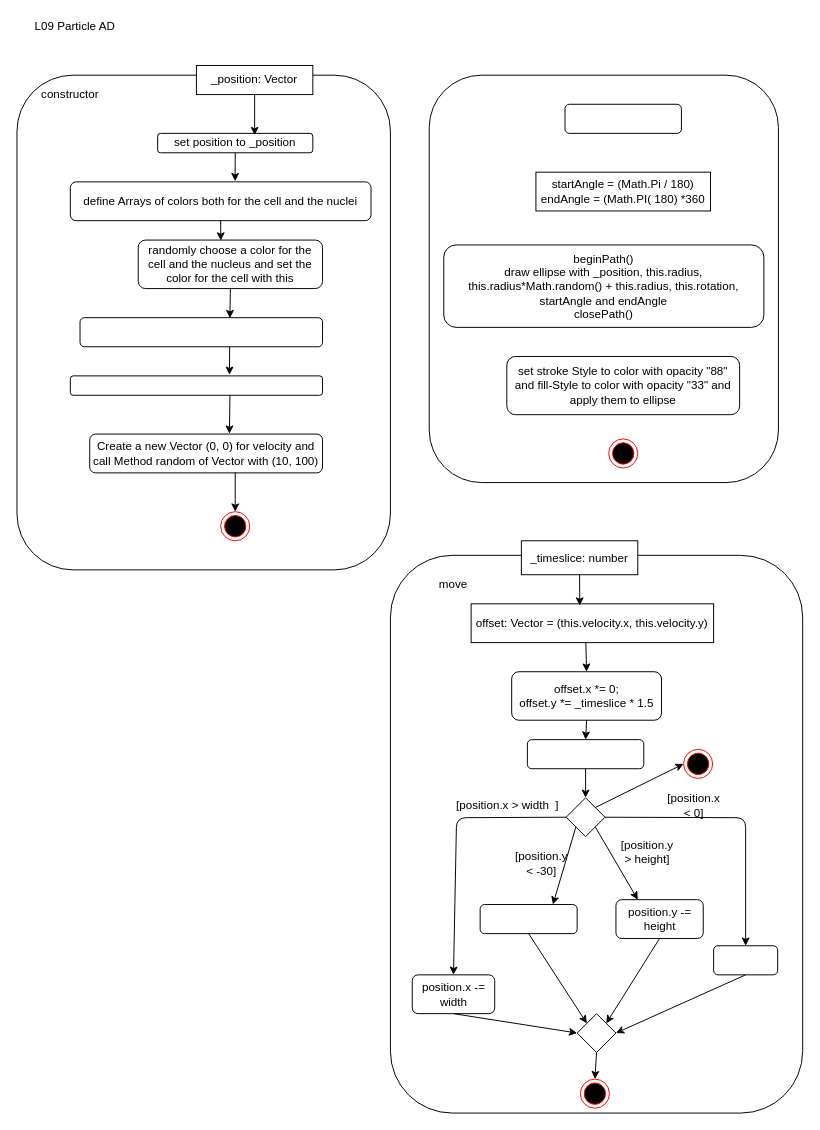
Some shapes in this 820 by 1130 pixel diagram are drawn without their labels. Each missing label, with the centre of its shape:
"add offset to position" goes at point 585,754.
"crc2.save()" goes at point 622,118.
"define the rotation with Math.random() * 360" goes at point 201,332.
"define the size with 1 + (Math.random() * 2)" goes at point 196,385.
"position.y += height" goes at point 528,919.
"positon.x += width" goes at point 745,960.
